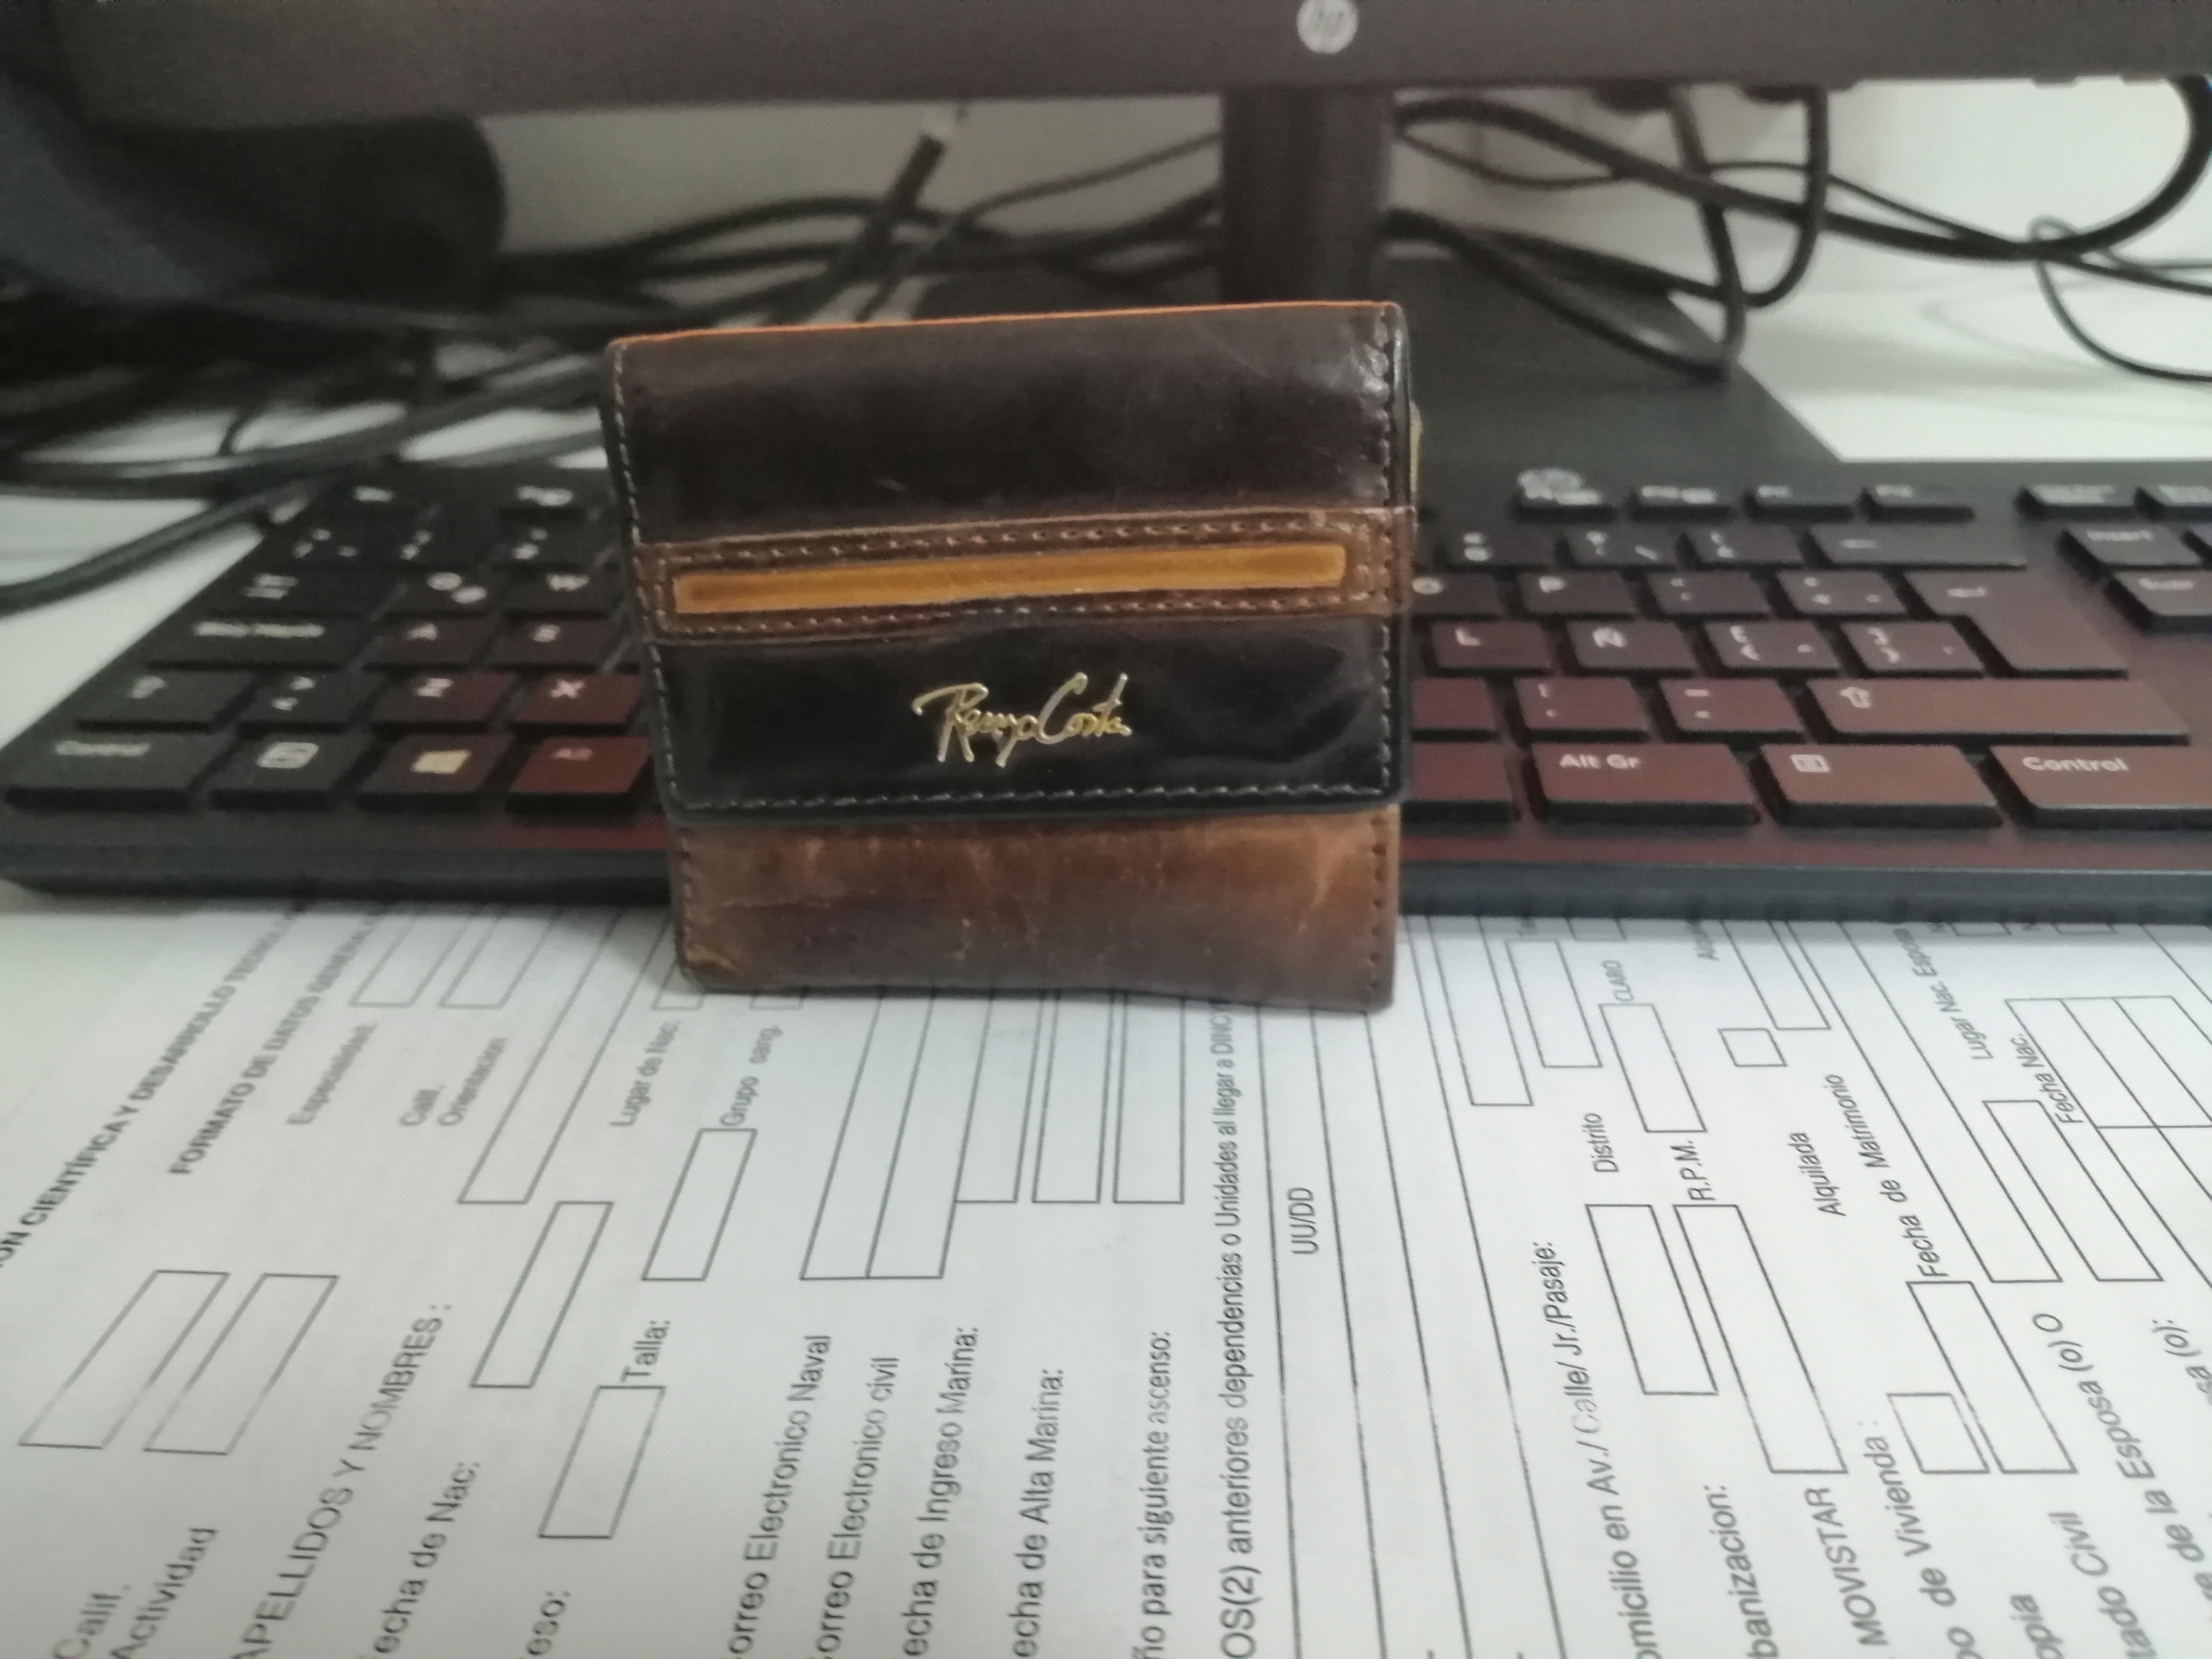monedero: (561, 288, 1446, 1037)
